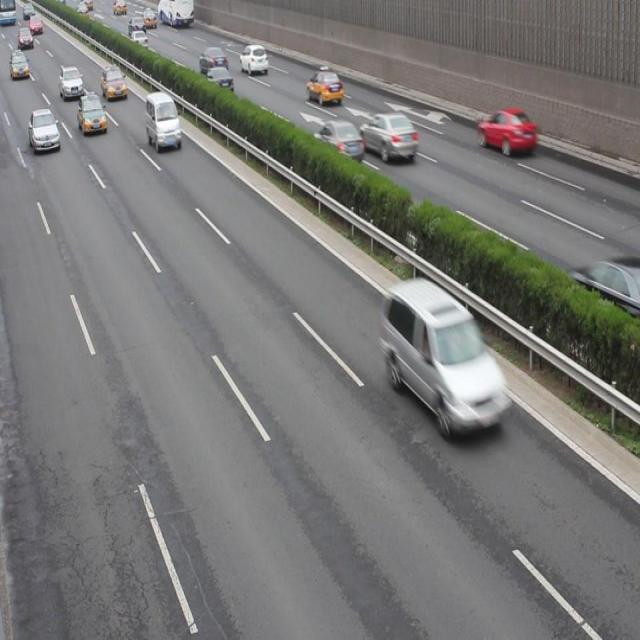car: (478, 107, 536, 157), (360, 113, 418, 161), (314, 122, 363, 160), (306, 67, 342, 105), (29, 109, 60, 153), (77, 94, 106, 135), (238, 44, 266, 76), (101, 68, 126, 100), (59, 66, 84, 98), (199, 48, 227, 75), (204, 68, 234, 93), (10, 51, 29, 79), (128, 30, 148, 50)
truck: (382, 279, 508, 436), (145, 92, 180, 150)
